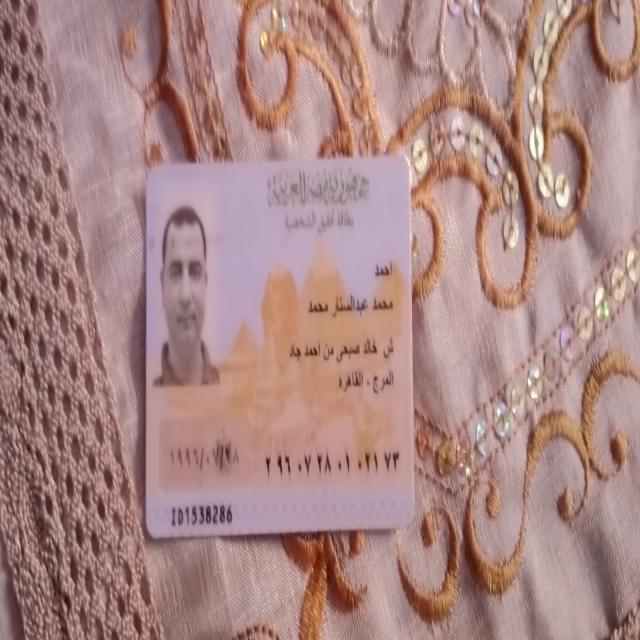id_card: (142, 150, 419, 547)
